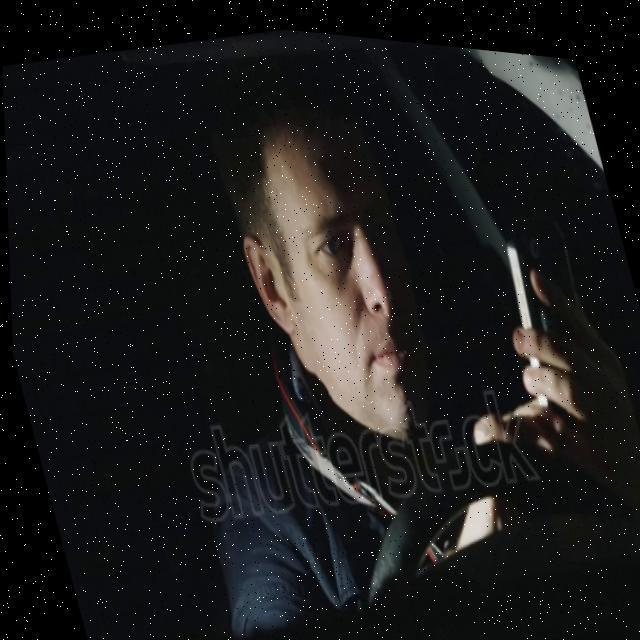PhoneCall: (492, 200, 606, 415)
